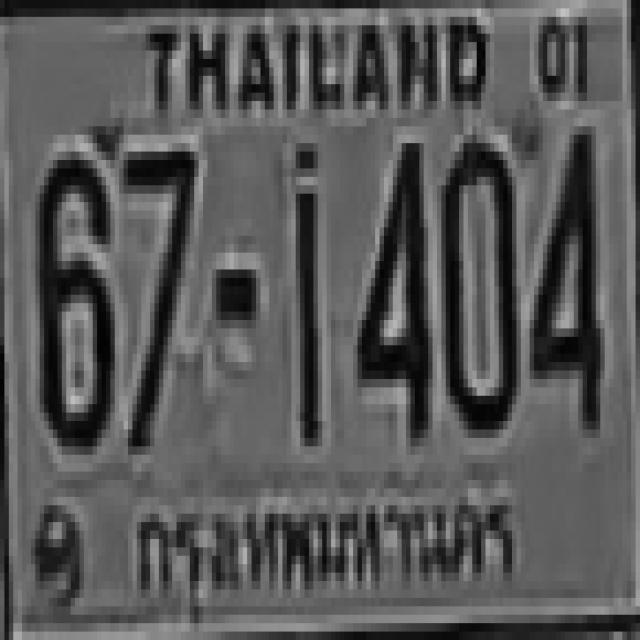0: (439, 135, 514, 429)
1: (294, 185, 316, 438)
4: (353, 135, 428, 429), (528, 118, 598, 421)
6: (36, 143, 110, 446)
7: (119, 143, 194, 446)
Bangkok: (122, 480, 525, 613)
